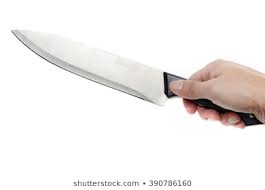knife: (7, 23, 265, 136)
